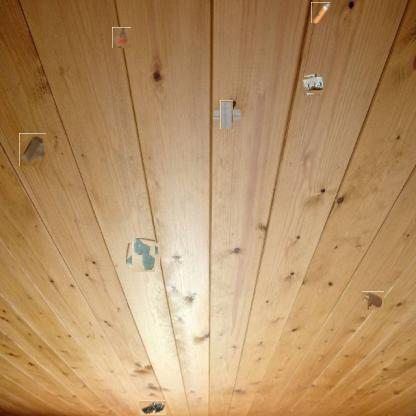dirty: (19, 133, 46, 166), (216, 104, 237, 125), (138, 400, 166, 415), (112, 27, 131, 48), (311, 2, 330, 23), (302, 76, 322, 94)
liquid: (128, 240, 158, 270), (362, 291, 384, 310)
